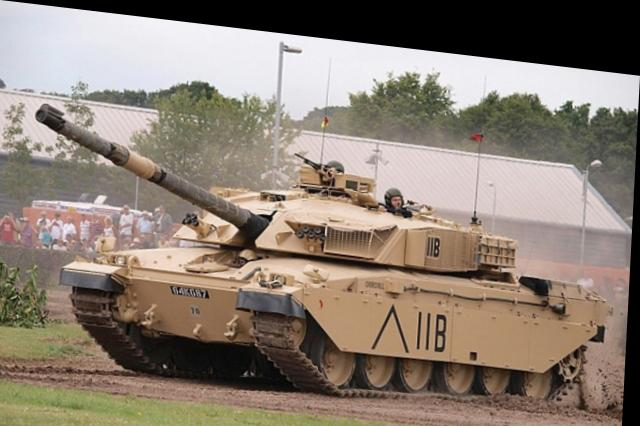other: (304, 136, 346, 184), (376, 165, 416, 210)
tank: (59, 155, 604, 416)
